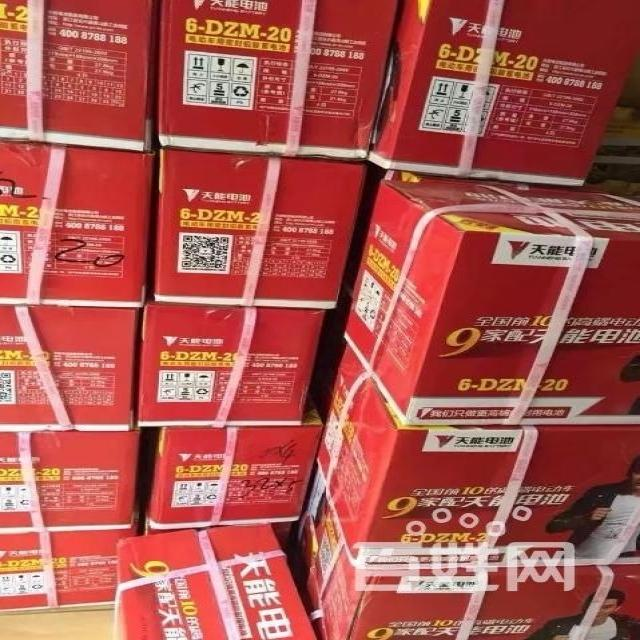box: (339, 180, 640, 426), (317, 343, 640, 571), (367, 0, 640, 188), (314, 498, 640, 640), (158, 0, 399, 161), (154, 149, 369, 309), (0, 140, 154, 309), (0, 0, 159, 153), (115, 522, 319, 640), (135, 304, 329, 426), (144, 403, 325, 529), (0, 305, 142, 432), (0, 432, 143, 533), (0, 529, 139, 613)
